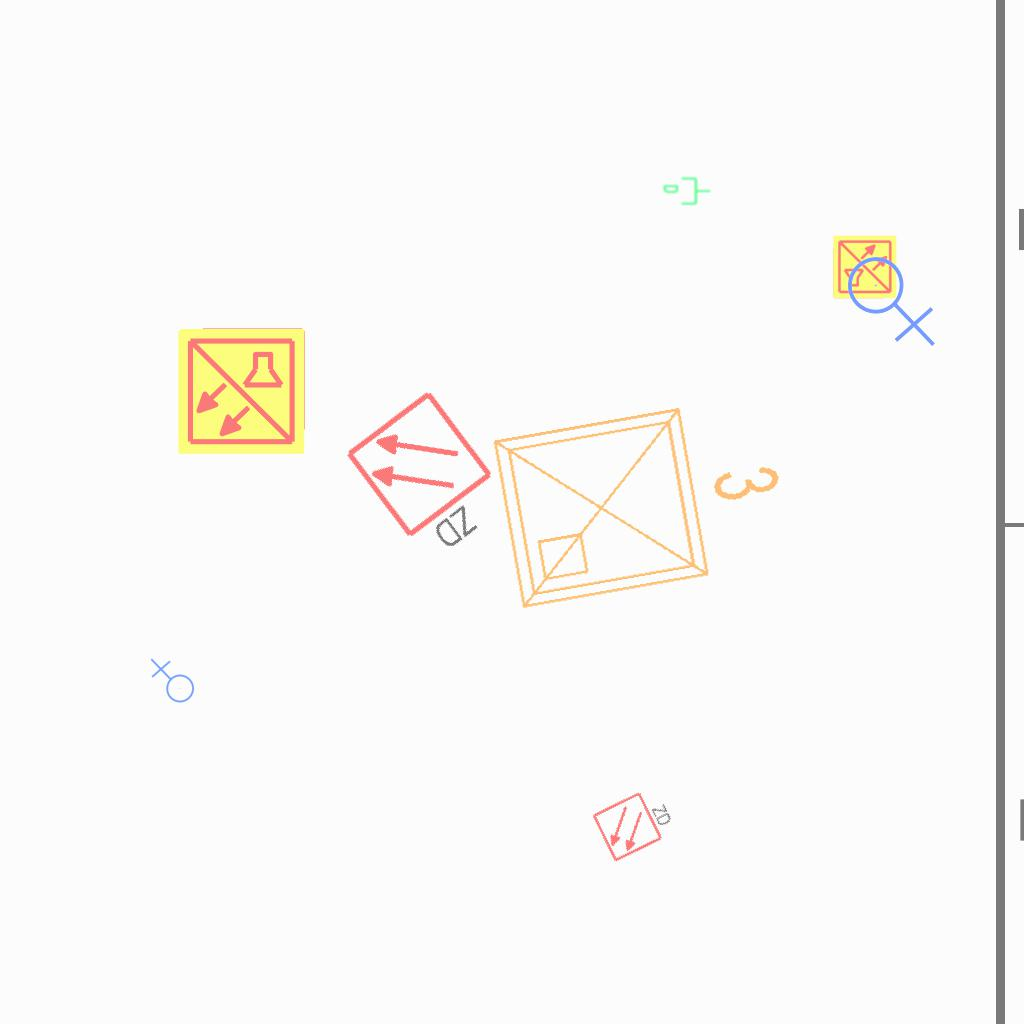Datenanschluss_einfach: (662, 175, 712, 209)
Einbaudownlights_LED_Konferenzraeume: (475, 368, 807, 626)
Elektroanschluss_allgemein_230V_Geraeteanschlussdose_230V: (846, 248, 940, 347), (148, 658, 195, 707)
OKW_Multisensormelder_(Kombination_optischer_Rauch-Kahlenmonoxid_Waerme-Melder): (175, 325, 307, 457), (832, 234, 898, 300)
ZD_Melder_in_Zwischendecke_mit_Revisionsoeffnung_mind_40_x_40_cm: (341, 384, 523, 573), (589, 780, 682, 864)
